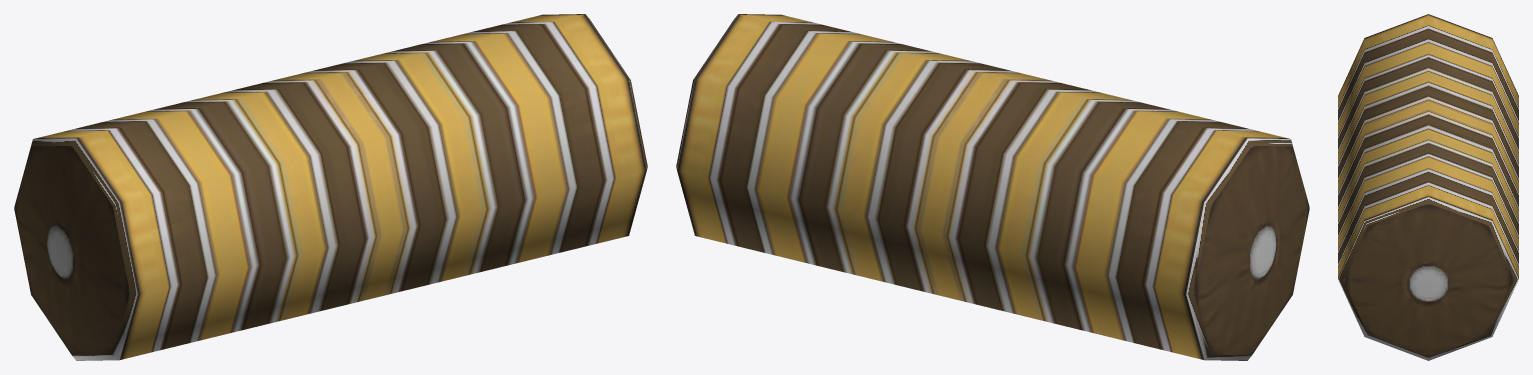
File: p6_pillow_boat_long_01_lod3.glb
3 renders of one model, left to right at view 1: azimuth 30°, elevation 25°; view 2: azimuth 150°, elevation 25°; view 3: azimuth 270°, elevation 25°, orthographic. The views are drawn at different scales.
Parts seen in each view (by area): view 1: surf0; view 2: surf0; view 3: surf0.
Part boxes in pixels (bbox=[...]): surf0: bbox=[14, 14, 647, 360]; surf0: bbox=[676, 14, 1309, 360]; surf0: bbox=[1338, 14, 1518, 360].
Bounding box in the file's own units: 30.08 × 11.68 × 11.68.
